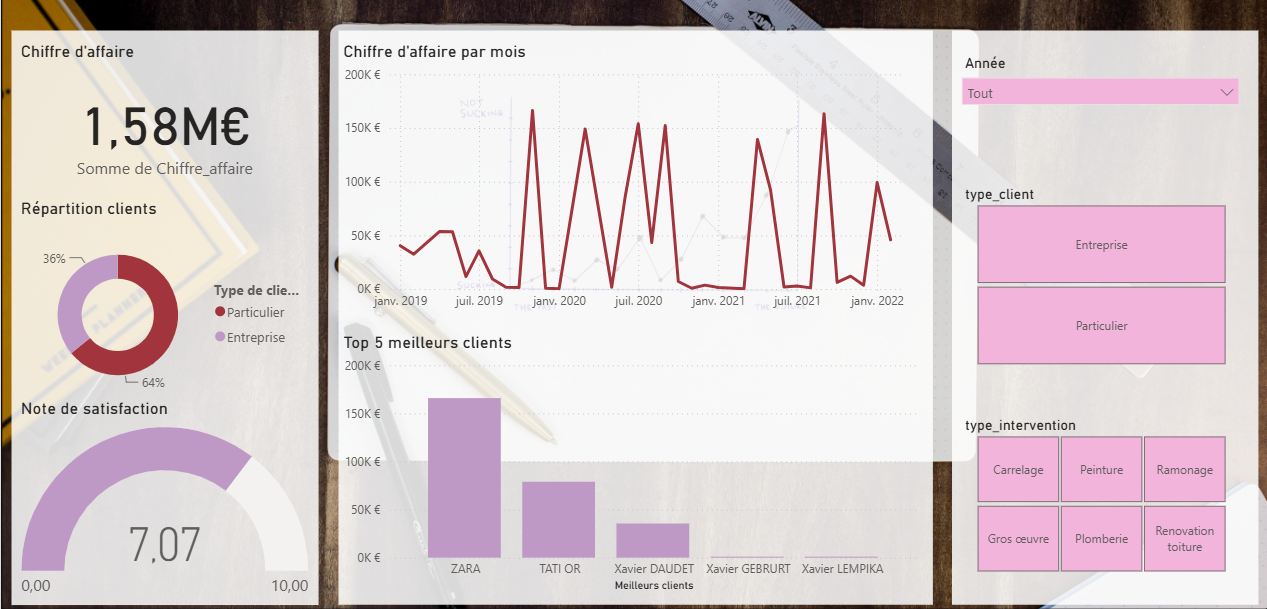

The page's visual inventory and layout, read from the dashboard file:
{"tool":"powerbi","page":{"name":"Scorecard","canvas":[1280,720],"ordinal":0},"visuals":[{"type":"shape","box":[10,135,310,580],"z":0},{"type":"shape","box":[960,135,309.4,579.7],"z":1000},{"type":"shape","box":[340,135,600,579.7],"z":2000},{"type":"donutChart","title":"Répartition clients","fields":{"Category":["base_clients.type_client"],"Y":["CountNonNull(base_clients.type_client)"]},"box":[15.1,304.4,299.8,215],"z":3000},{"type":"gauge","title":"Note de satisfaction","fields":{"Y":["Avg(base_clients.Satisfaction client (note sur 10))"]},"box":[15.1,505.7,299.8,215],"z":4000},{"type":"card","title":"Chiffre d''affaire","fields":{"Values":["Sum(base_clients.Chiffre_affaire)"]},"box":[15.1,145.4,299.8,159],"z":5000},{"type":"lineChart","title":"Chiffre d''affaire par mois","fields":{"Y":["Sum(base_clients.Chiffre_affaire)"],"Category":["base_clients.Date_devis.Variation.Hiérarchie de dates.Année","base_clients.Date_devis.Variation.Hiérarchie de dates.Mois"]},"box":[340.7,145.4,589,280.1],"z":6000},{"type":"lineClusteredColumnComboChart","title":"Top 5 meilleurs clients","fields":{"Y":["Sum(base_clients.Chiffre_affaire)"],"Category":["base_clients.Nom_client"]},"box":[340.2,438.4,589.6,266.5],"z":7000},{"type":"slicer","fields":{"Values":["base_clients.Date_devis.Variation.Hiérarchie de dates.Année"]},"box":[960,154,300,86],"z":8000},{"type":"slicer","fields":{"Values":["base_clients.type_client"]},"box":[960,286,300,192],"z":9000},{"type":"slicer","fields":{"Values":["base_clients.type_intervention"]},"box":[960,520,300,168],"z":10000}]}

Visuals, with their boxes on the page's 1280x720 design canvas (x1, y1, x2, y2). These are canvas units, not pixel positions in the 1267x609 screenshot, which may show the page scaled, cropped or inside an application window:
shape: pyautogui.locateOnScreen(10, 135, 320, 715)
shape: pyautogui.locateOnScreen(960, 135, 1269, 715)
shape: pyautogui.locateOnScreen(340, 135, 940, 715)
"Répartition clients" donutChart: pyautogui.locateOnScreen(15, 304, 315, 519)
"Note de satisfaction" gauge: pyautogui.locateOnScreen(15, 506, 315, 721)
"Chiffre d''affaire" card: pyautogui.locateOnScreen(15, 145, 315, 304)
"Chiffre d''affaire par mois" lineChart: pyautogui.locateOnScreen(341, 145, 930, 426)
"Top 5 meilleurs clients" lineClusteredColumnComboChart: pyautogui.locateOnScreen(340, 438, 930, 705)
slicer - base_clients.Date_devis.Variation.Hiérarchie de dates.Année: pyautogui.locateOnScreen(960, 154, 1260, 240)
slicer - base_clients.type_client: pyautogui.locateOnScreen(960, 286, 1260, 478)
slicer - base_clients.type_intervention: pyautogui.locateOnScreen(960, 520, 1260, 688)
